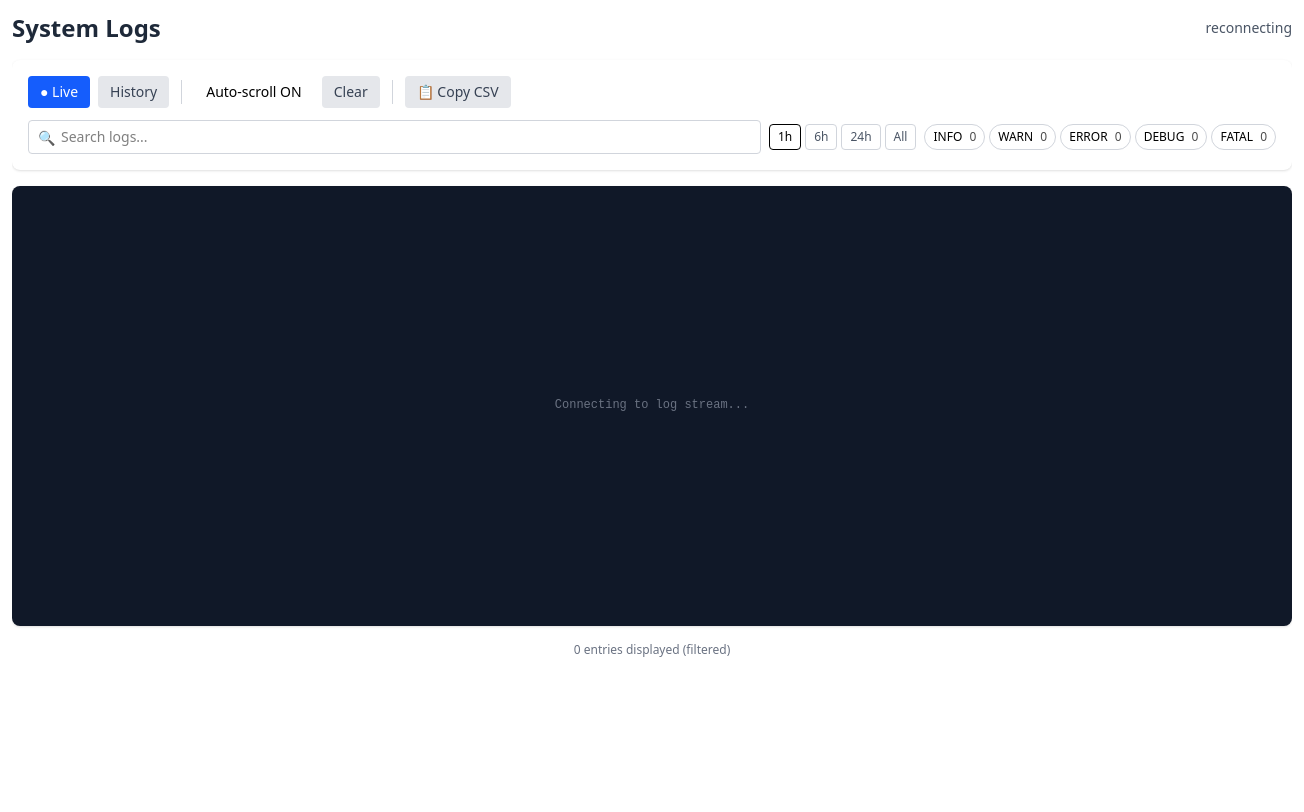
Test case: LogsComponent › should toggle auto-scroll on button click
This screenshot has width=1304, height=812.
Click the button with test id "logs-autoscroll-btn". click: click(254, 92)
box: [194,76,314,108]
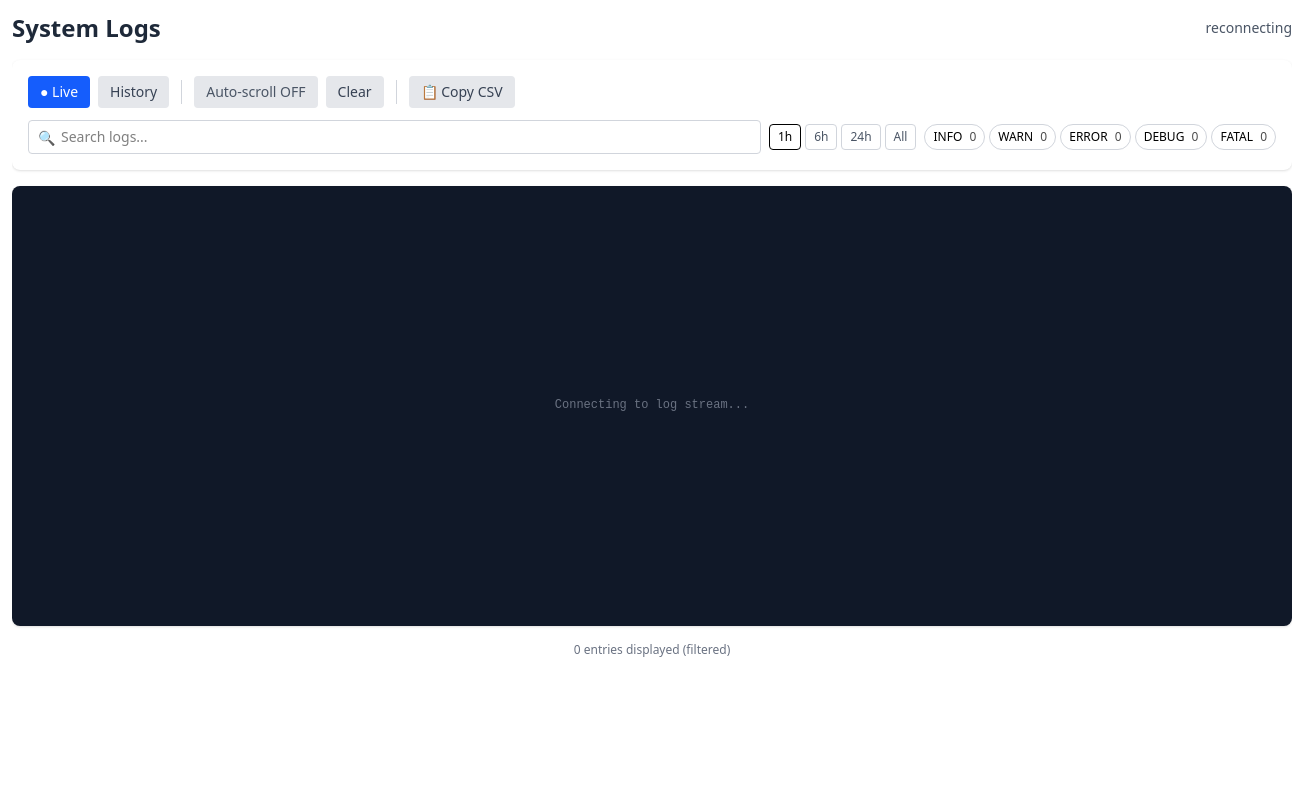
Now the button with test id "logs-autoscroll-btn" shows "OFF", box [194,76,318,108]
